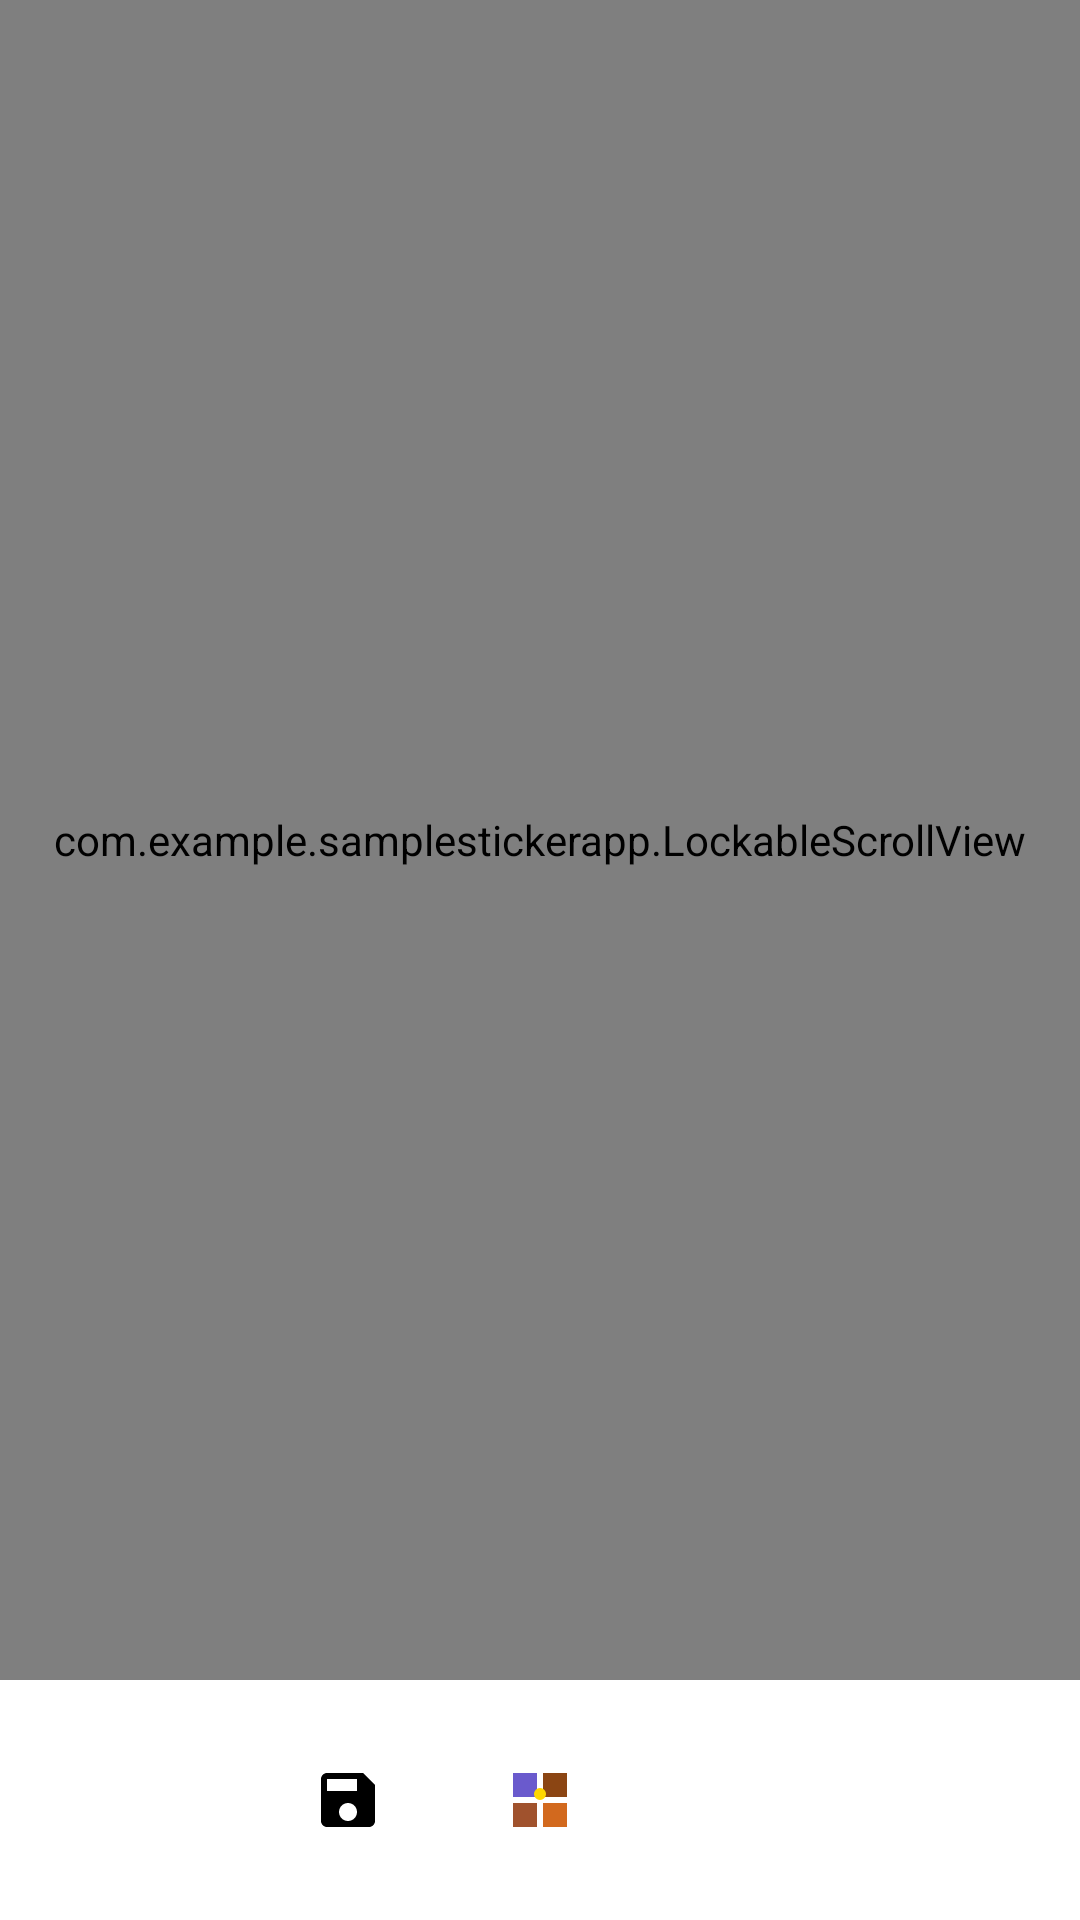

Where icons sit on this 1080 × 1920 app screen, as (x1, y1, x2, y2):
Salvar: (321, 1773, 375, 1827)
